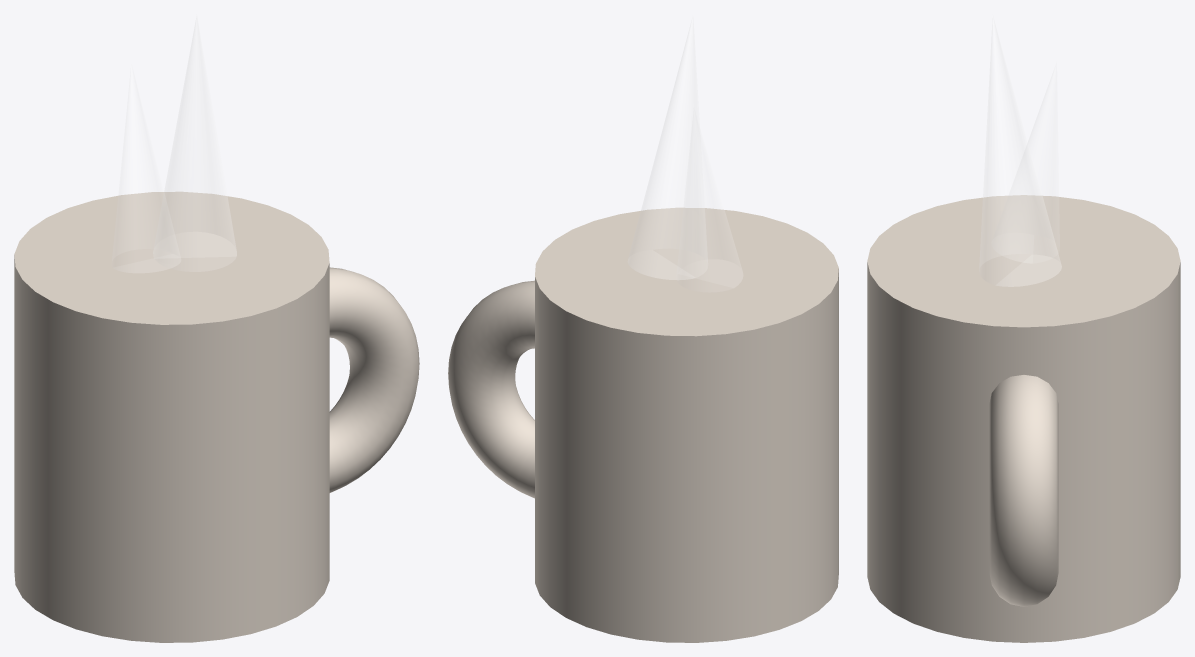
Rendered from state-default.glb.
3 renders of one model, left to right at view 1: azimuth 30°, elevation 25°; view 2: azimuth 150°, elevation 25°; view 3: azimuth 270°, elevation 25°, orthographic. The views are drawn at different scales.
Parts seen in each view (by area): view 1: assetPrim:be0c1bf4a1e43-19c74455b1e:mug-body, assetPrim:be0c1bf4a1e43-19c74455b1e:mug-handle, assetPrim:be0c1bf4a1e43-19c74455b1e:steam-wisp-1, assetPrim:be0c1bf4a1e43-19c74455b1e:steam-wisp-2; view 2: assetPrim:be0c1bf4a1e43-19c74455b1e:mug-body, assetPrim:be0c1bf4a1e43-19c74455b1e:mug-handle, assetPrim:be0c1bf4a1e43-19c74455b1e:steam-wisp-1, assetPrim:be0c1bf4a1e43-19c74455b1e:steam-wisp-2; view 3: assetPrim:be0c1bf4a1e43-19c74455b1e:mug-body, assetPrim:be0c1bf4a1e43-19c74455b1e:mug-handle, assetPrim:be0c1bf4a1e43-19c74455b1e:steam-wisp-1, assetPrim:be0c1bf4a1e43-19c74455b1e:steam-wisp-2.
Boxes of the visible parts, box(x1,y1,x2,y2) form: assetPrim:be0c1bf4a1e43-19c74455b1e:mug-body: box(14, 191, 329, 642); assetPrim:be0c1bf4a1e43-19c74455b1e:mug-handle: box(329, 267, 419, 492); assetPrim:be0c1bf4a1e43-19c74455b1e:steam-wisp-1: box(153, 16, 236, 271); assetPrim:be0c1bf4a1e43-19c74455b1e:steam-wisp-2: box(112, 65, 180, 272); assetPrim:be0c1bf4a1e43-19c74455b1e:mug-body: box(535, 207, 838, 642); assetPrim:be0c1bf4a1e43-19c74455b1e:mug-handle: box(448, 280, 534, 498); assetPrim:be0c1bf4a1e43-19c74455b1e:steam-wisp-1: box(628, 17, 707, 279); assetPrim:be0c1bf4a1e43-19c74455b1e:steam-wisp-2: box(677, 109, 742, 287); assetPrim:be0c1bf4a1e43-19c74455b1e:mug-body: box(867, 195, 1180, 642); assetPrim:be0c1bf4a1e43-19c74455b1e:mug-handle: box(989, 375, 1058, 606); assetPrim:be0c1bf4a1e43-19c74455b1e:steam-wisp-1: box(979, 17, 1061, 286); assetPrim:be0c1bf4a1e43-19c74455b1e:steam-wisp-2: box(998, 64, 1059, 262).
Size of the model in its own units: 0.125 by 0.1798 by 0.09.
